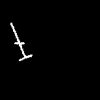double_crochet: (11, 23, 31, 60)
